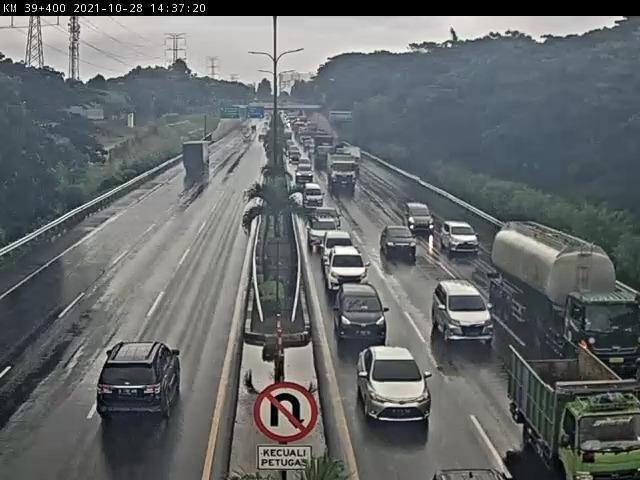car: (98, 343, 180, 420), (355, 345, 435, 422), (437, 281, 494, 343), (333, 281, 391, 339), (324, 243, 375, 296), (382, 227, 421, 264), (438, 220, 477, 255), (403, 202, 437, 236), (320, 229, 355, 261), (305, 214, 338, 244), (317, 206, 346, 232), (302, 182, 326, 208), (294, 159, 317, 179)
truck: (495, 220, 640, 382), (508, 339, 640, 480), (183, 140, 216, 174), (330, 155, 358, 192)
